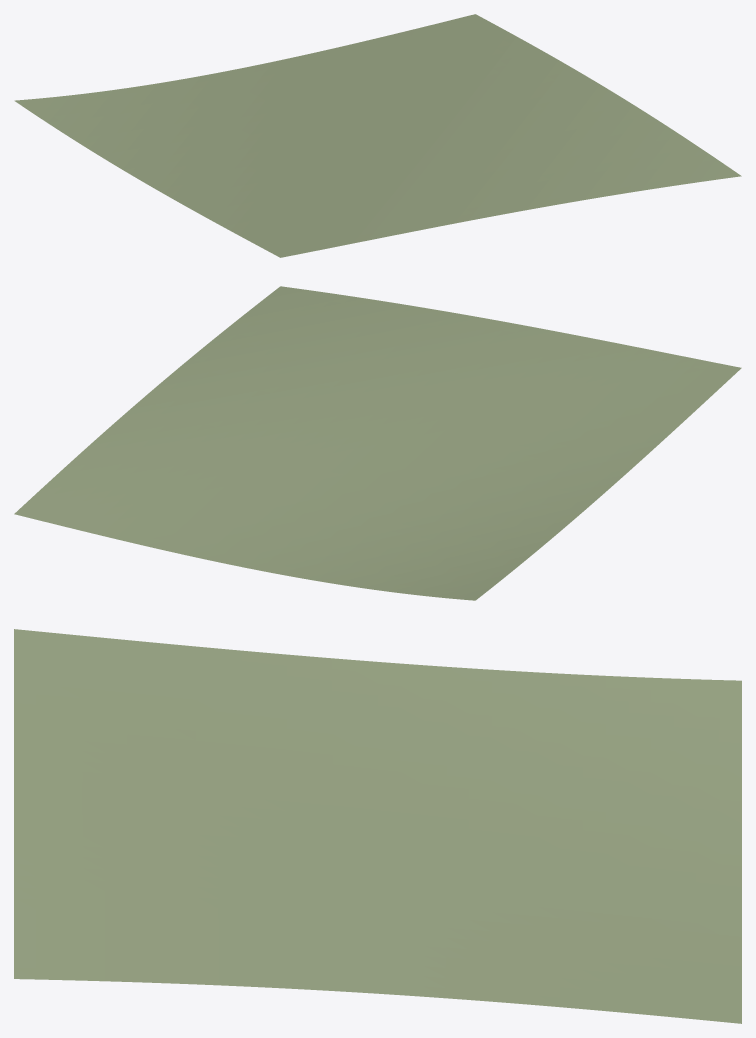
Rendered from alpine-13-3.glb.
3 views of the same model, one above another, from view 1: azimuth 30°, elevation 25°; view 2: azimuth 150°, elevation 25°; view 3: azimuth 270°, elevation 25° (orthographic). The views are drawn at different scales.
Visible parts, largest first — view 1: alpine-13-3; view 2: alpine-13-3; view 3: alpine-13-3.
Part boxes in pixels (x1,y1,x2,y2): alpine-13-3: (14,14,741,257); alpine-13-3: (14,286,741,600); alpine-13-3: (14,629,741,1023).
Size of the model in its own units: 256 by 33.93 by 256.
